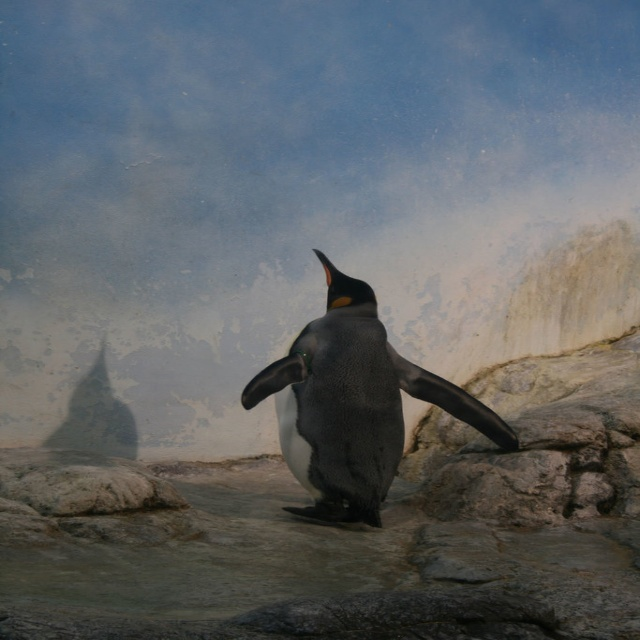Penguin: (237, 254, 515, 540)
